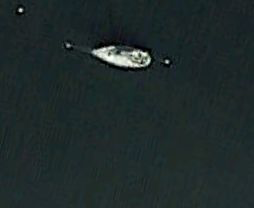boat: (89, 44, 153, 71)
